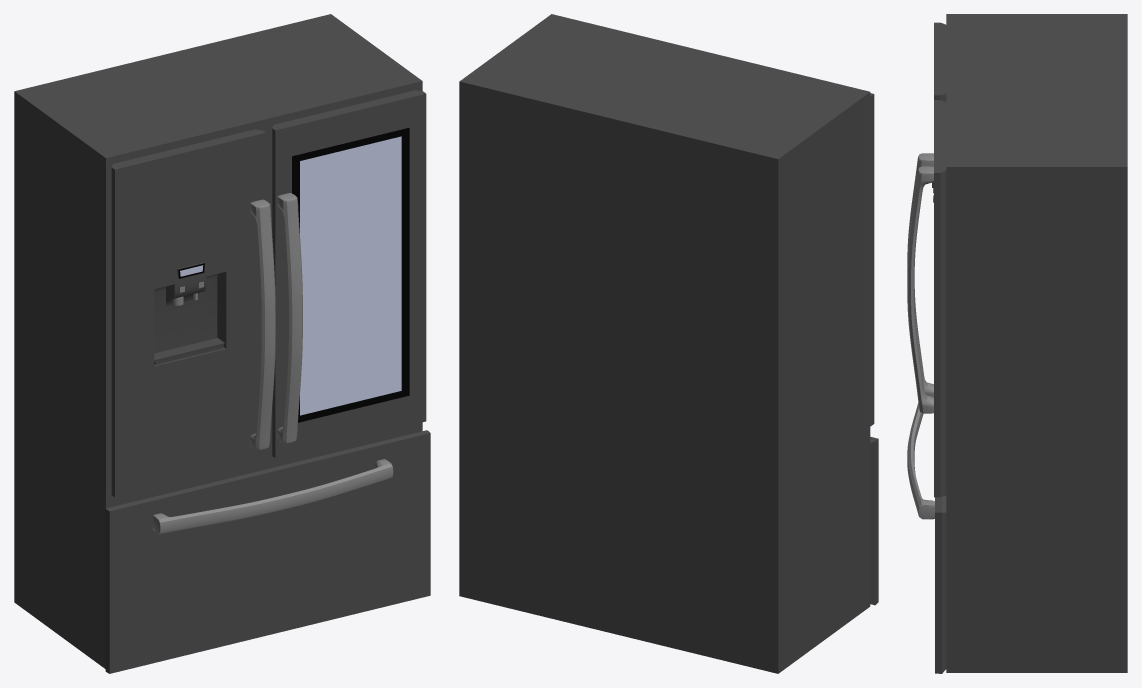
File: nevera.glb
The picture shows the model from 3 angles, left to right: view 1: azimuth 30°, elevation 25°; view 2: azimuth 150°, elevation 25°; view 3: azimuth 270°, elevation 25°; orthographic projection.
Parts seen in each view (by area): view 1: Cube; view 2: Cube; view 3: Cube.
Part boxes in pixels (box(x1,y1,x2,y2)): Cube: box(14, 14, 430, 673); Cube: box(459, 14, 878, 673); Cube: box(907, 14, 1127, 673).
Bounding box in the file's own units: 1.25 × 1.9 × 0.7517.
